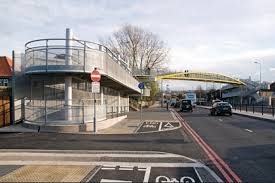bridge: (150, 71, 258, 84)
